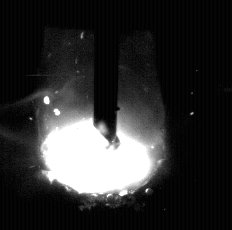arame: (95, 0, 119, 149)
poca: (36, 0, 166, 230)
